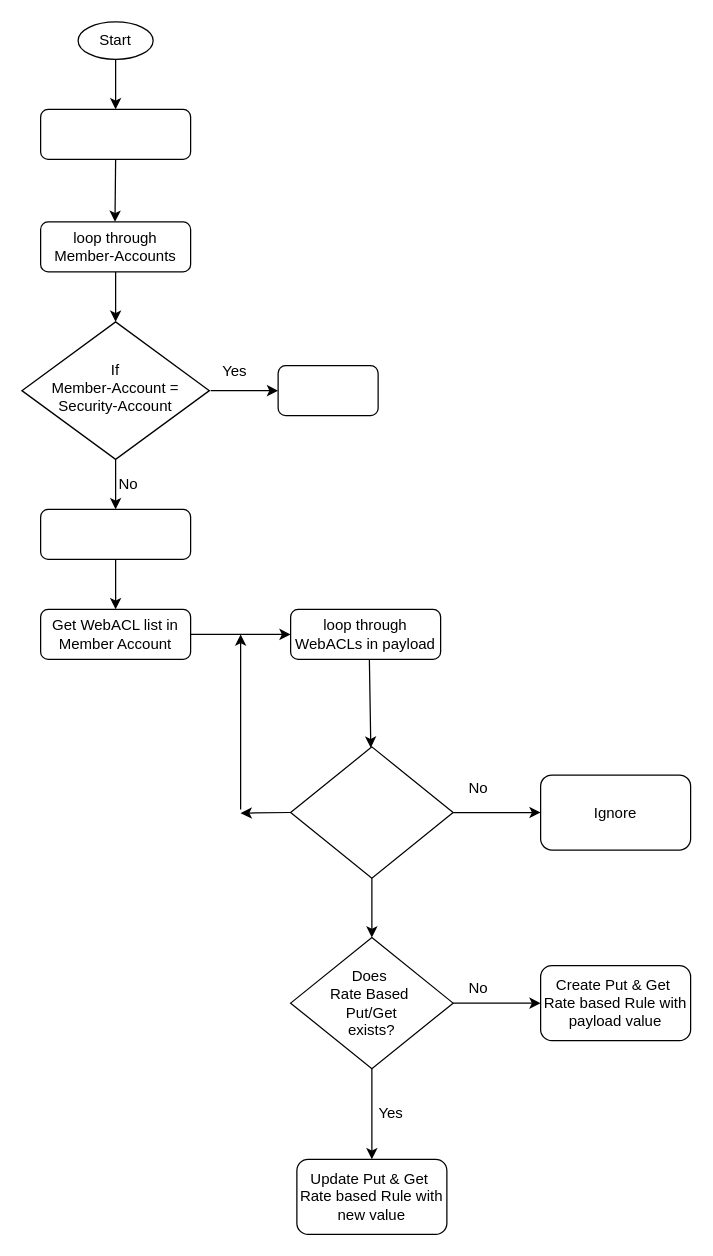
Some shapes in this 713 by 1256 pixel diagram are drawn without their labels. The shapes that lost their labels are listed below. From the top down, each one's centre as x and y in pixels, then its label:
At pixel 115 133: "FMS Collect Member-Accounts".
At pixel 327 390: "Skip".
At pixel 115 533: "Assume STS role".
At pixel 371 812: "If WebACL matches Payload WebACL".
